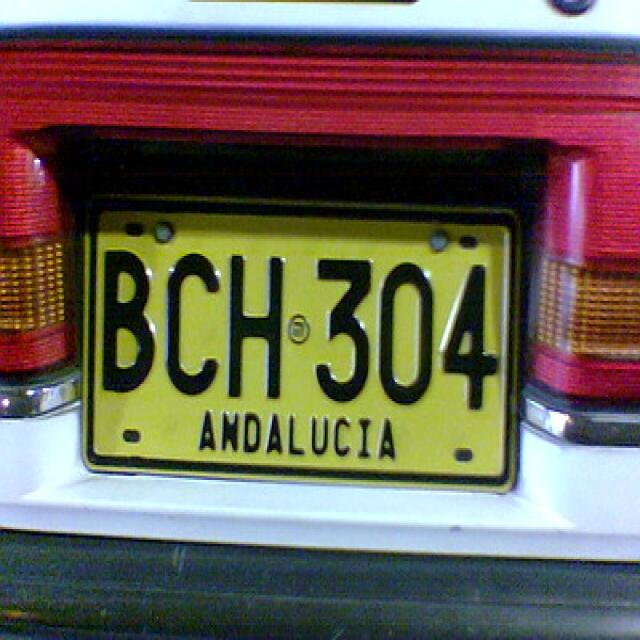placa_carro: (70, 171, 536, 504)
